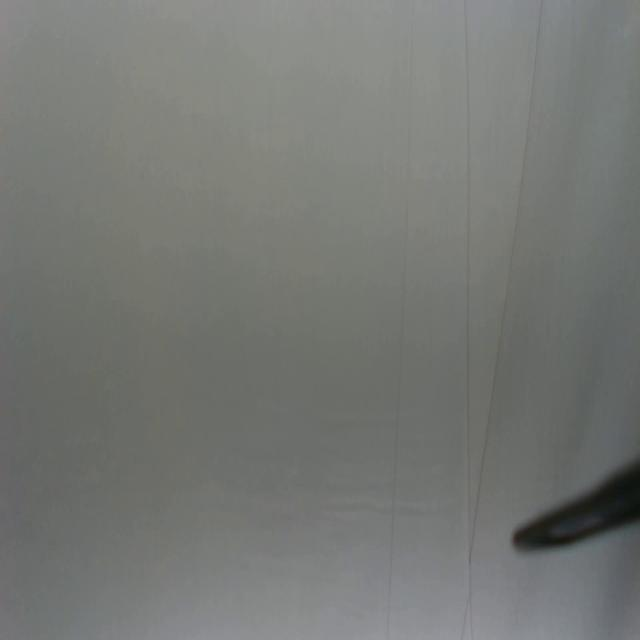crease: (474, 0, 544, 523), (383, 0, 417, 640), (460, 0, 472, 555)
